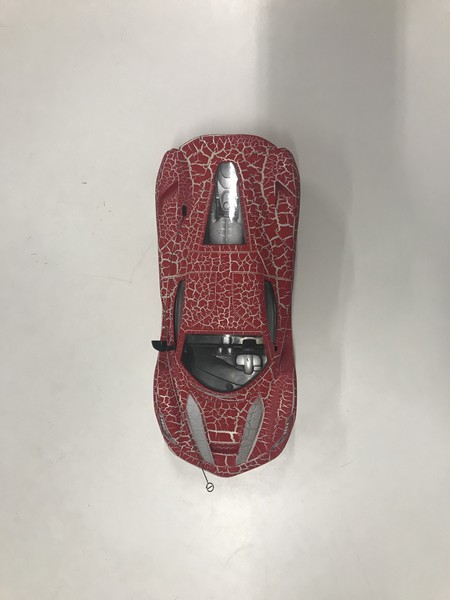RC: (150, 133, 301, 477)
